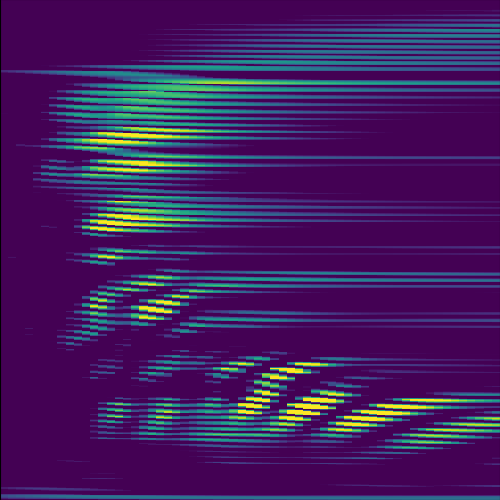semblance: (88, 267, 206, 330), (319, 389, 465, 438), (234, 356, 324, 418), (76, 193, 197, 237), (75, 119, 213, 148), (396, 412, 500, 450), (276, 382, 351, 430), (85, 156, 198, 183), (213, 351, 257, 378), (93, 246, 129, 264)
